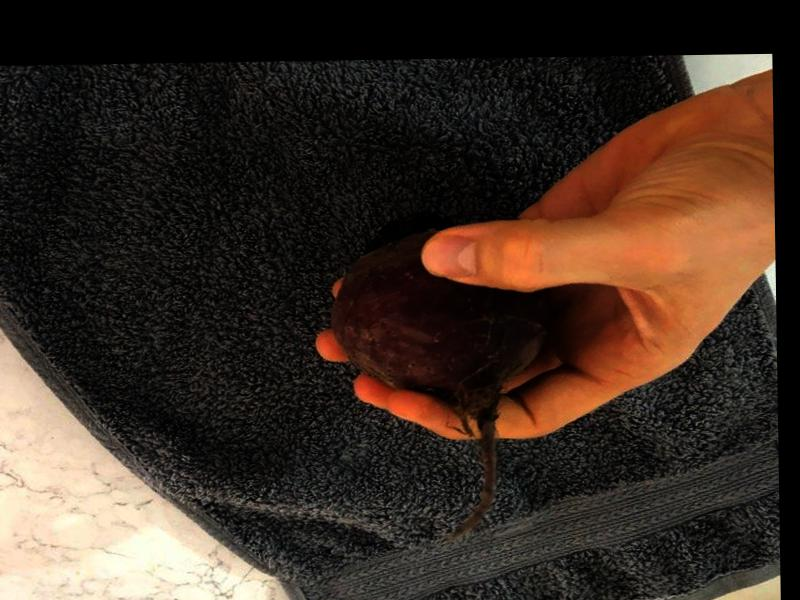Beet: (330, 210, 554, 541)
